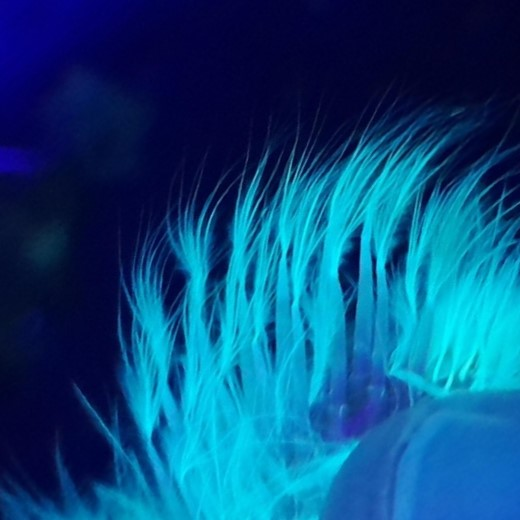female: (150, 209, 505, 488)
